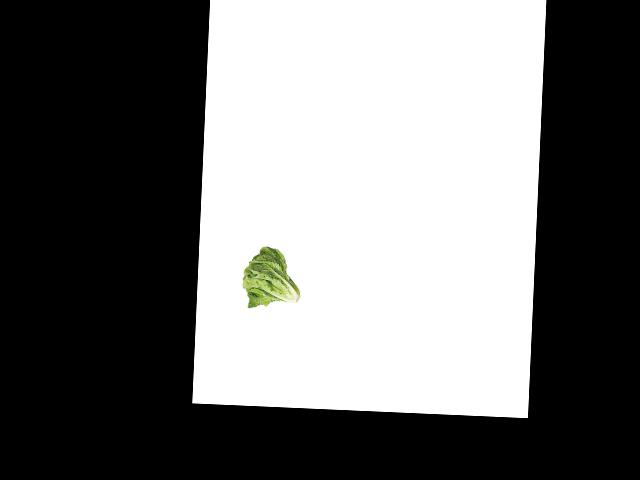lettuce: (239, 244, 305, 311)
